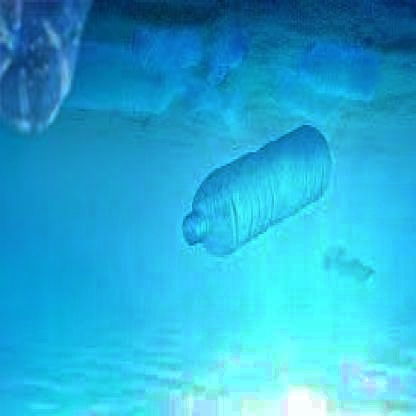pbottle: (171, 123, 339, 261), (2, 2, 89, 139), (64, 43, 178, 121), (292, 32, 380, 107), (136, 23, 250, 70), (176, 73, 254, 132)
